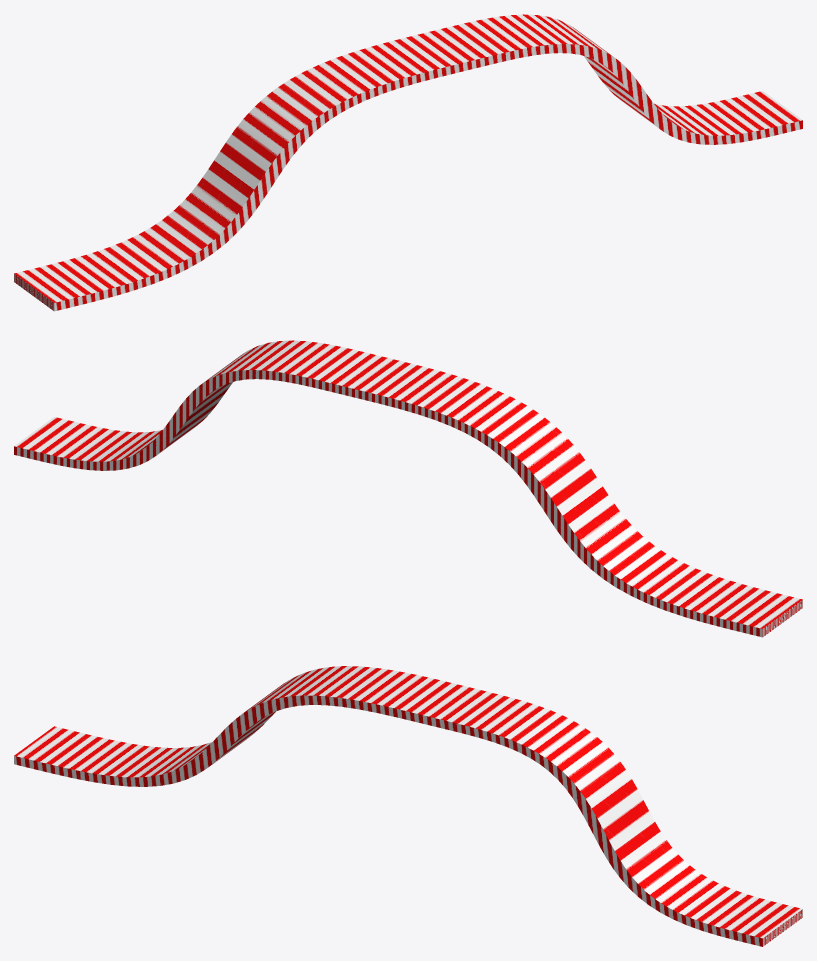
Rendered from new ramp.glb.
3 views of the same model, one above another, from view 1: azimuth 30°, elevation 25°; view 2: azimuth 150°, elevation 25°; view 3: azimuth 330°, elevation 25° (orthographic).
Visible parts, largest first — view 1: pCube3.001; view 2: pCube3.001; view 3: pCube3.001.
Part boxes in pixels (left/top/right/bottom): pCube3.001: left=14, top=14, right=802, bottom=311; pCube3.001: left=14, top=340, right=802, bottom=637; pCube3.001: left=14, top=666, right=802, bottom=946.
Size of the model in its own units: 43.91 by 8.34 by 4.09.
1 material, 1 textured.
